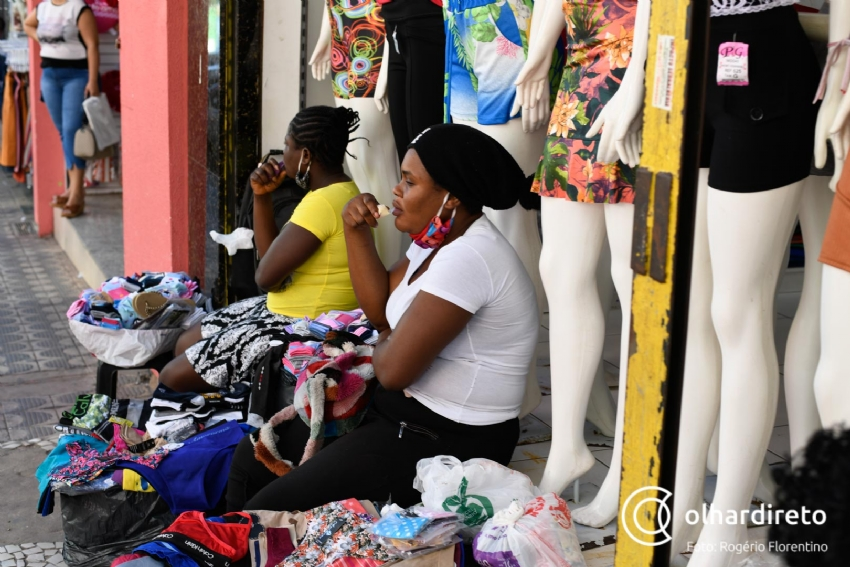mask_weared_incorrect: (389, 145, 465, 254)
